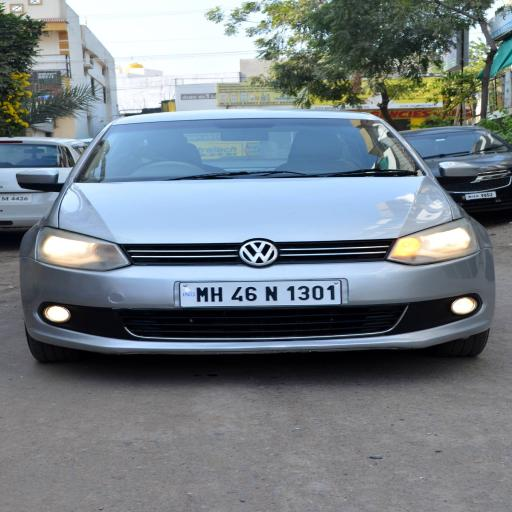License: (176, 277, 350, 308)
